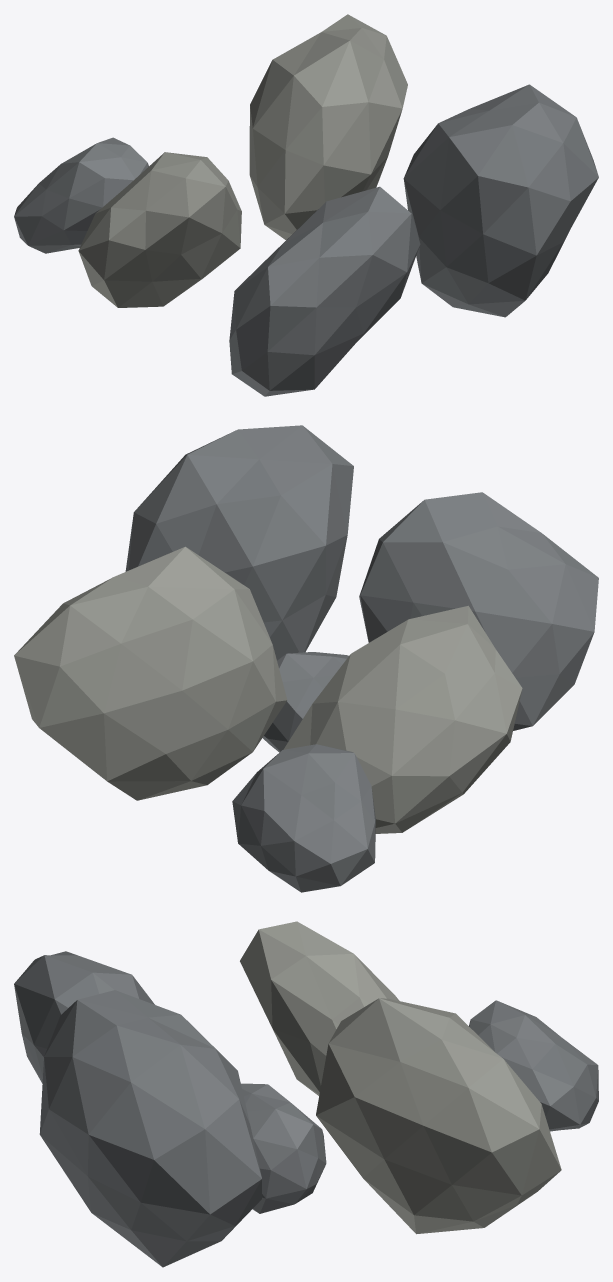
File: 155_rounded_river_stones.fbx
The picture shows the model from 3 angles, top to bottom: view 1: azimuth 30°, elevation 25°; view 2: azimuth 150°, elevation 25°; view 3: azimuth 270°, elevation 25°; orthographic projection. The views are drawn at different scales.
Visible parts, largest first — view 1: 155_rounded_river_stones; view 2: 155_rounded_river_stones; view 3: 155_rounded_river_stones.
Boxes of the visible parts, x1,y1,x2,y2 form: 155_rounded_river_stones: (14,14,598,396); 155_rounded_river_stones: (14,425,598,892); 155_rounded_river_stones: (14,921,598,1267).
Size of the model in its own units: 1.35 by 0.6825 by 1.44.
Materials: 1 (1 with a texture image).
